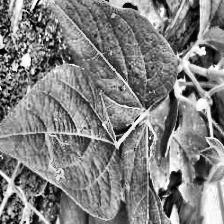ALS: (52, 176, 164, 224)
